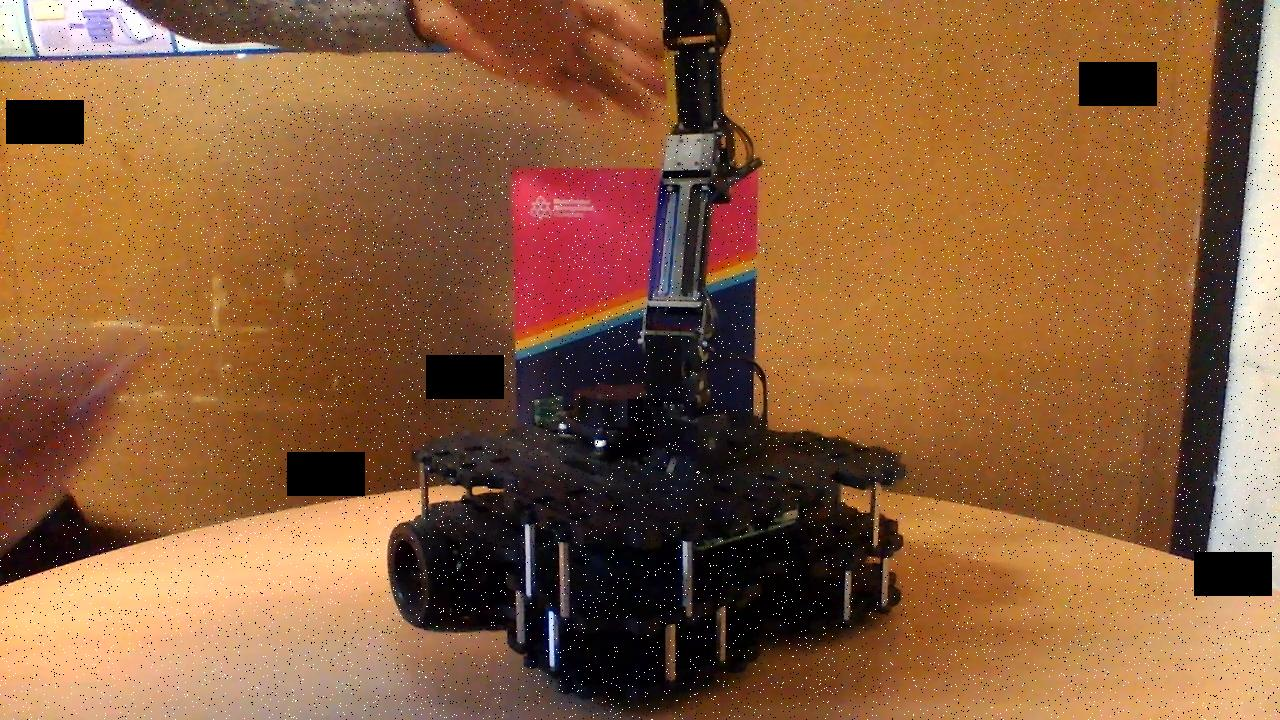Arm: (633, 126, 762, 362)
Wrist: (658, 0, 738, 133)
base: (383, 378, 912, 704)
